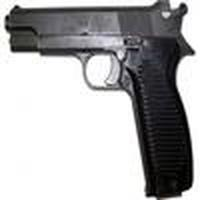gun: (3, 3, 200, 192)
